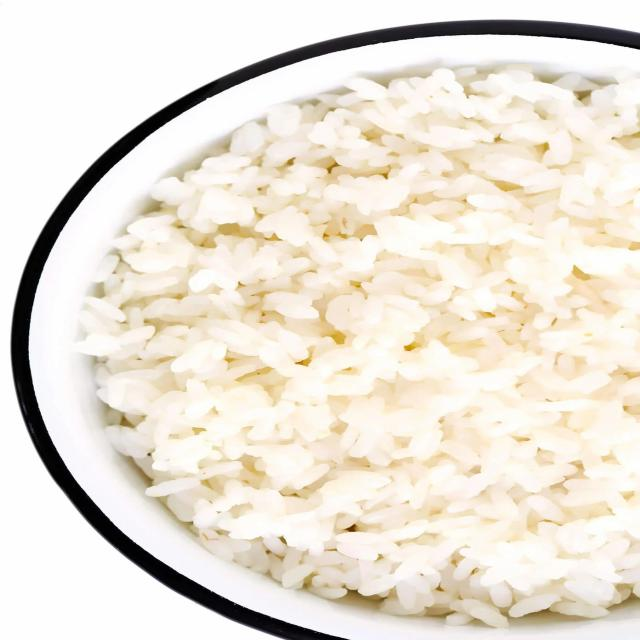rice: (92, 58, 640, 625)
